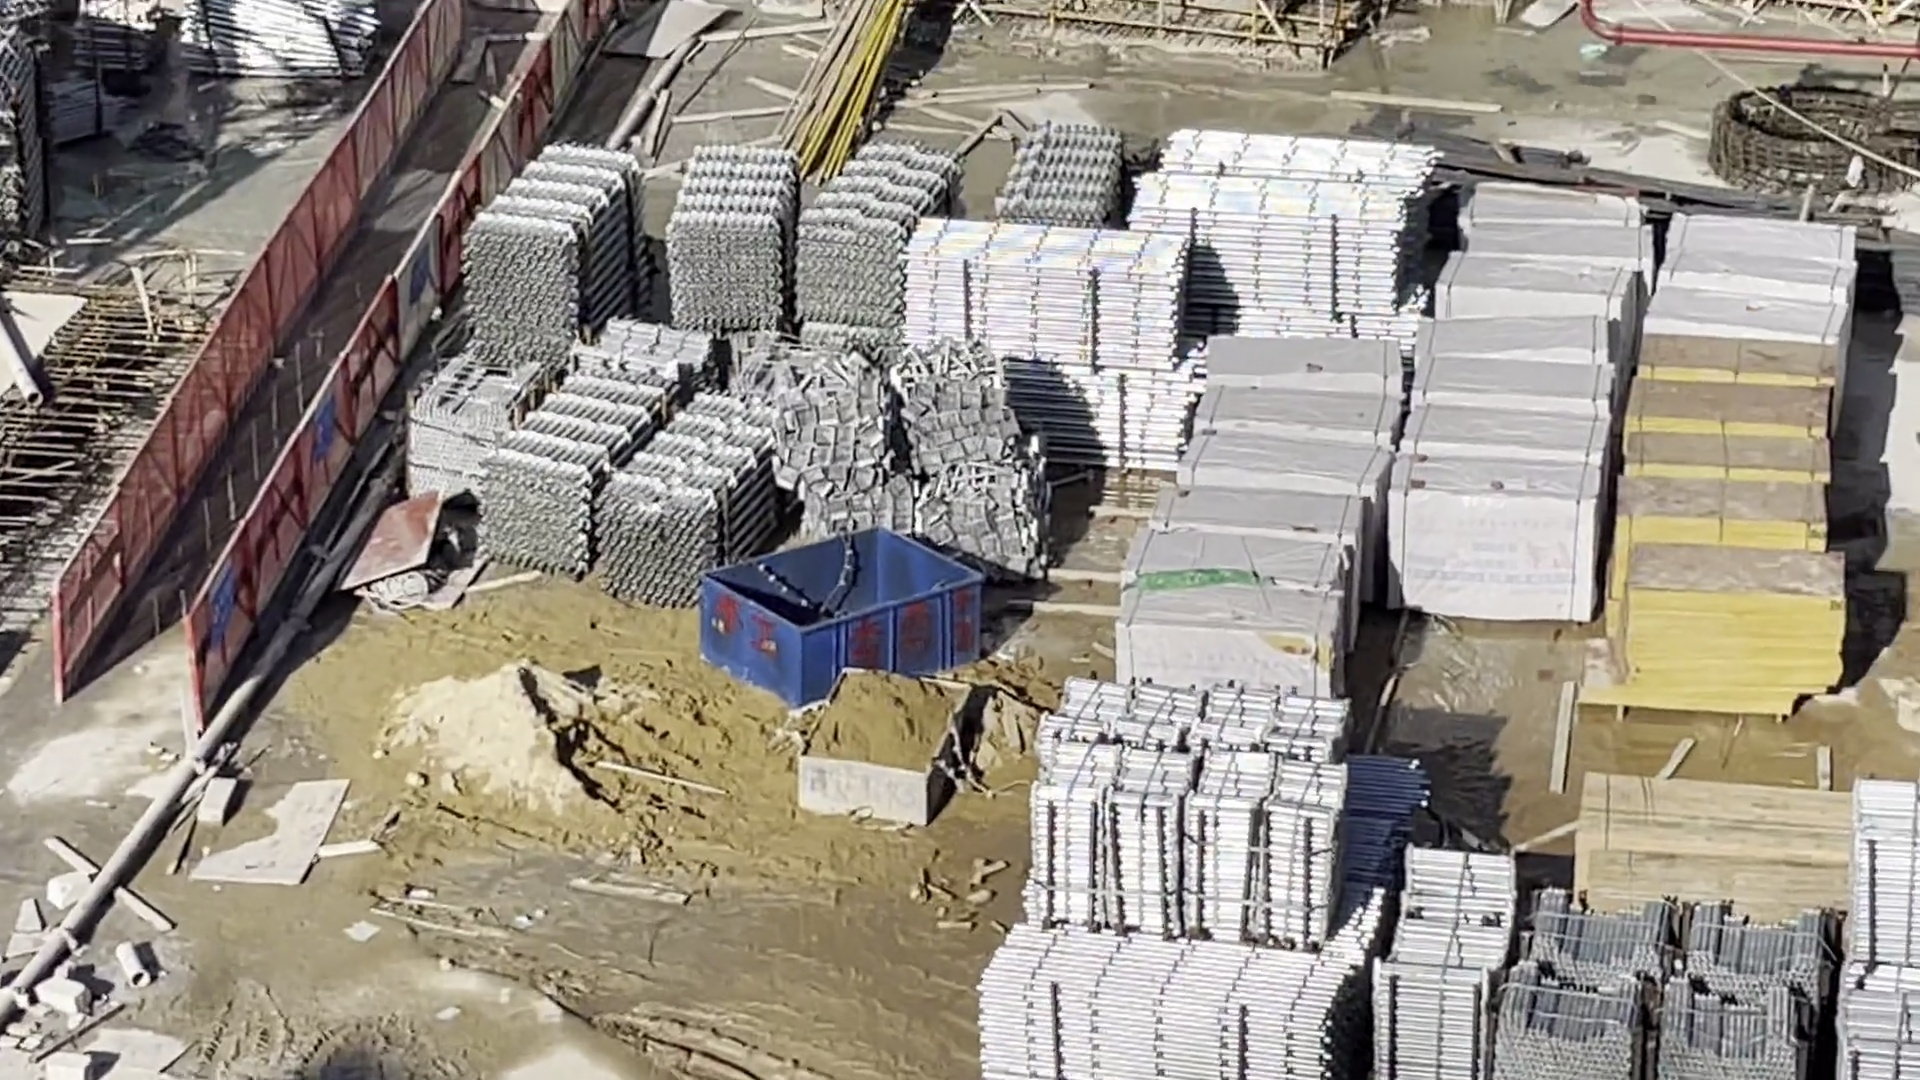board: (1615, 334, 1836, 709), (1567, 775, 1844, 909)
fence: (61, 7, 589, 695)
hopper: (698, 530, 982, 705), (798, 669, 975, 824)
rebar: (1462, 152, 1913, 306)
scaffold: (1029, 687, 1346, 938), (905, 218, 1189, 469), (1509, 887, 1824, 1080), (491, 384, 774, 596), (982, 926, 1354, 1080), (671, 142, 955, 338), (1135, 138, 1433, 318), (469, 146, 644, 369), (1374, 847, 1520, 1080), (1847, 787, 1919, 1080), (185, 1, 377, 73), (1007, 123, 1124, 225), (79, 1, 160, 73)
slogan: (204, 562, 236, 645), (313, 388, 336, 465)
